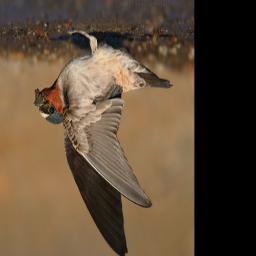Swallow: (33, 27, 174, 256)
